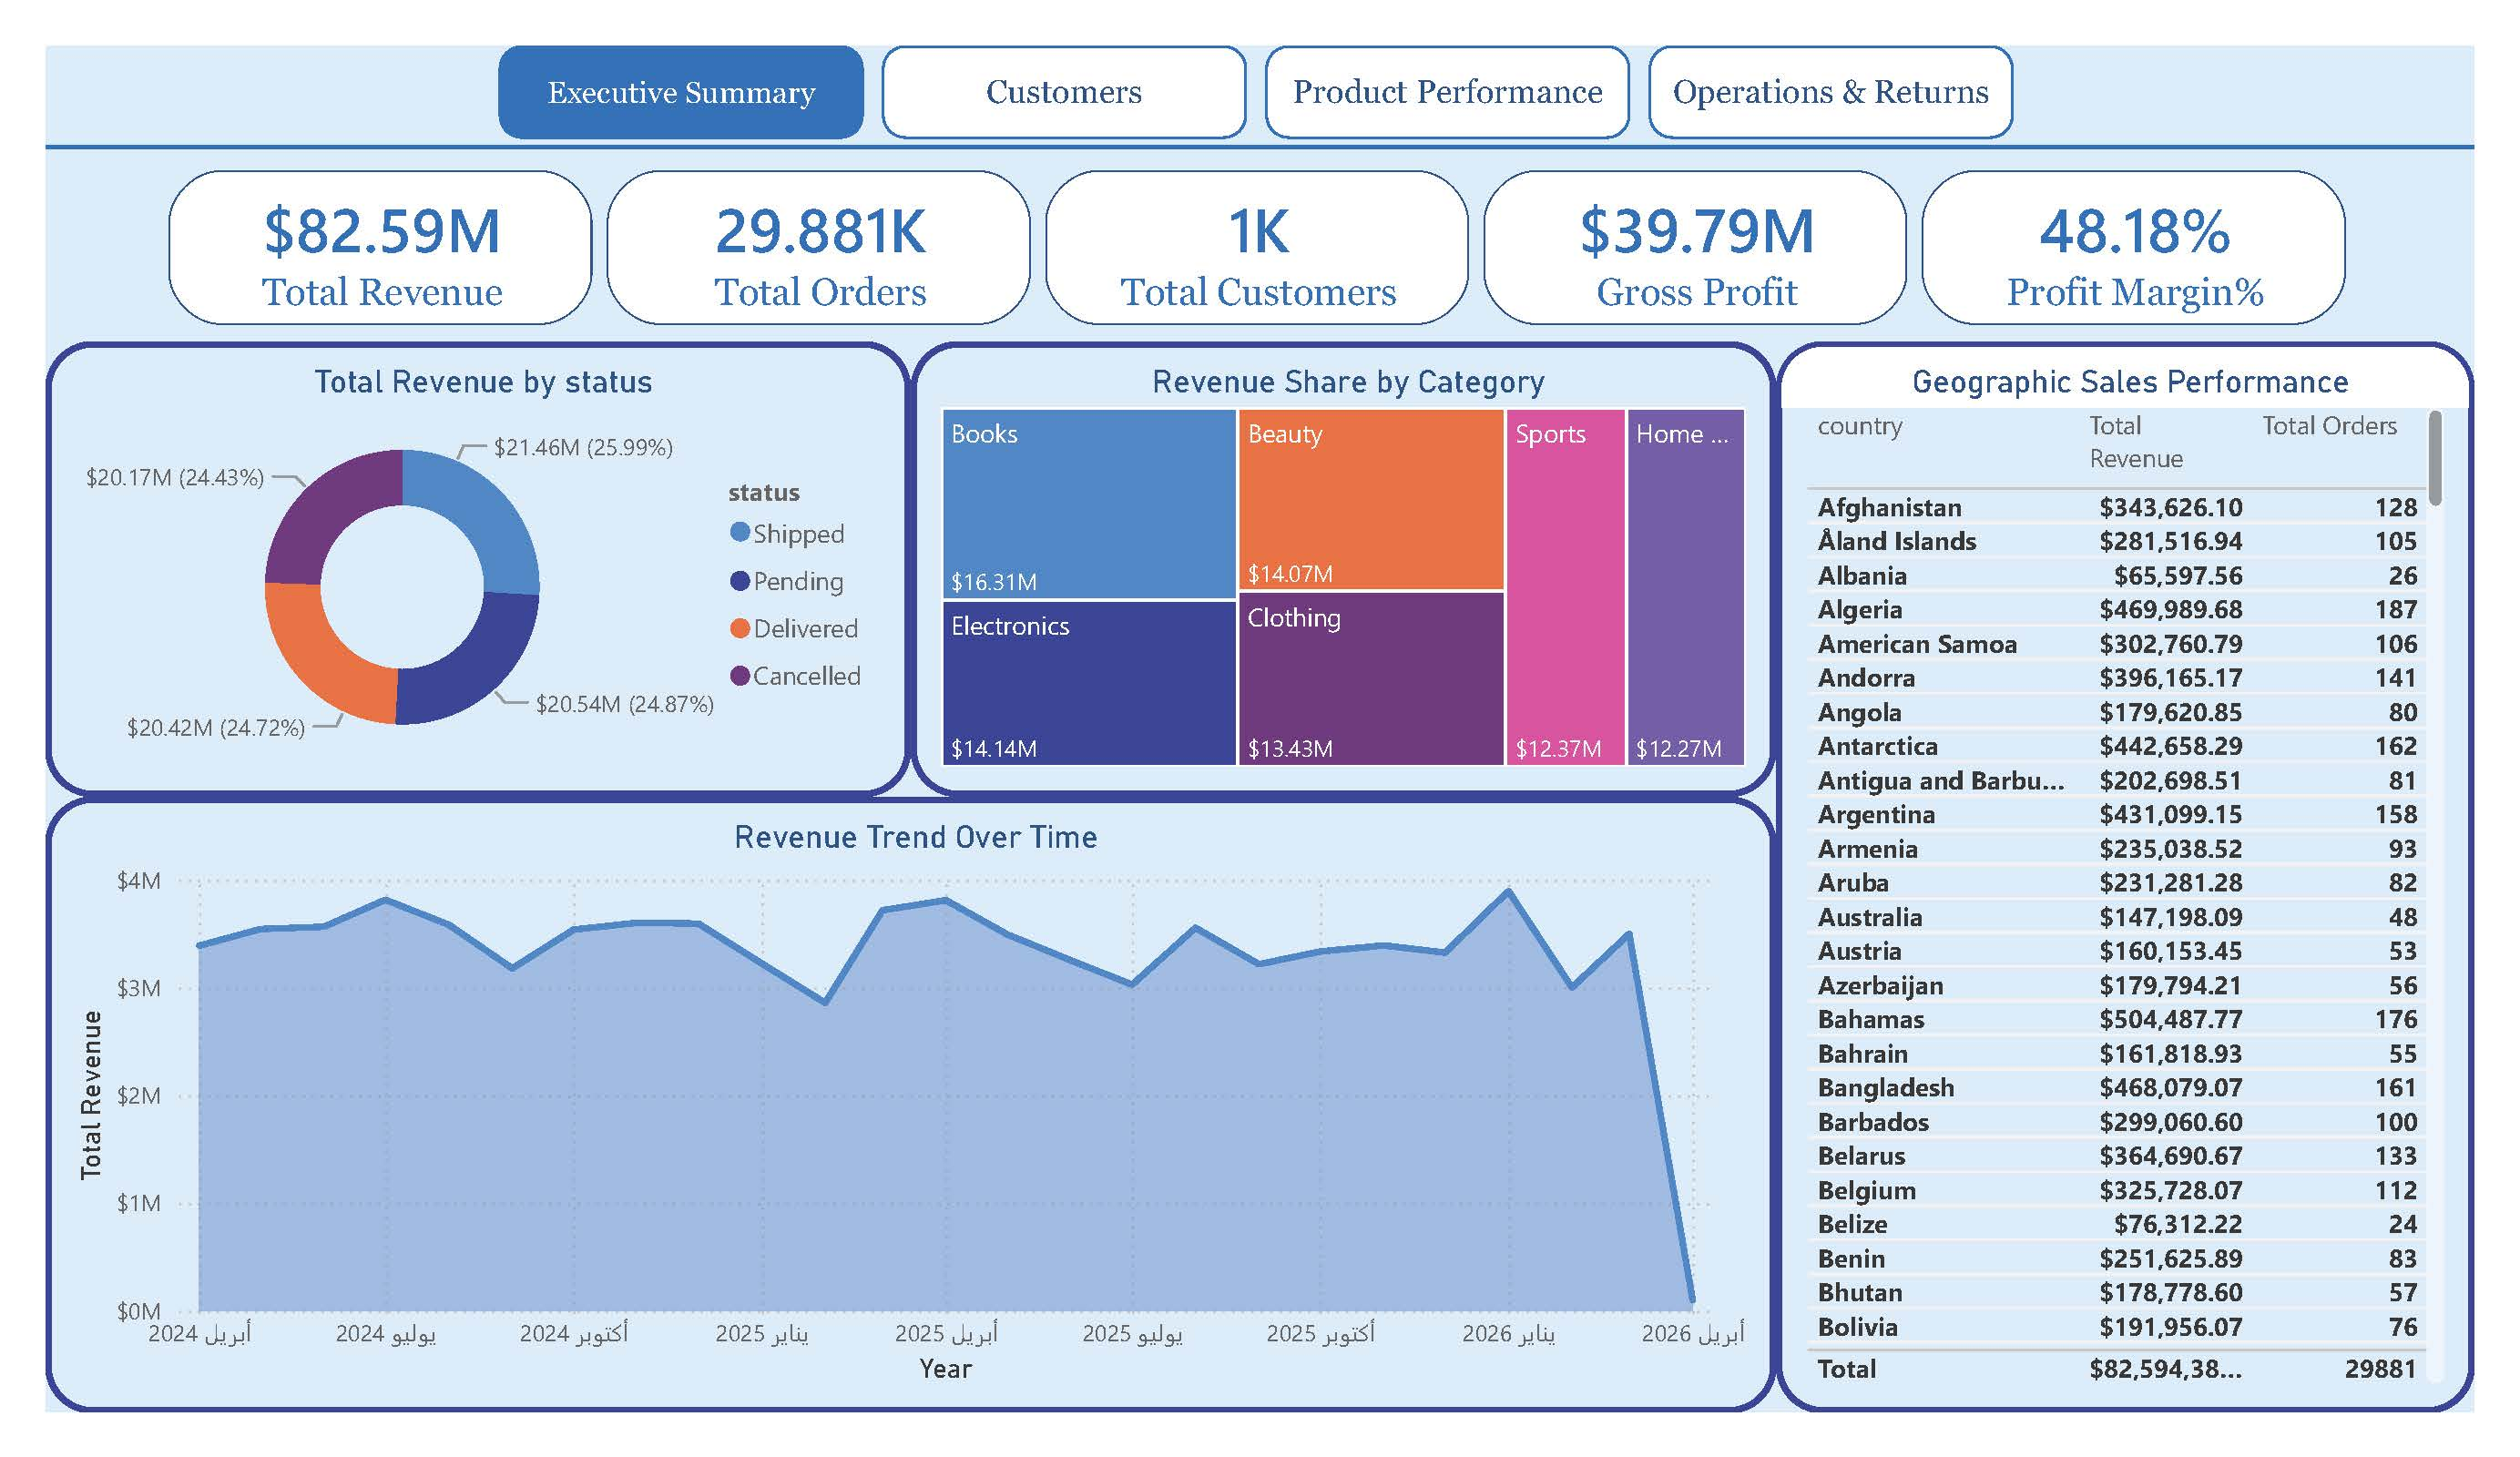

Layout of this report page (visuals, bound fields, positions):
{"tool":"powerbi","page":{"name":"Executive Summary","canvas":[1280,720],"ordinal":0},"visuals":[{"type":"shape","box":[0,0,1280,106.9],"z":0},{"type":"pageNavigator","box":[239.3,0,800.5,49.6],"z":1000},{"type":"cardVisual","fields":{"Data":["Measure.Total Revenue","Measure.Total Orders","Measure.Total Customers","Measure.Gross Profit","Measure.Profit Margin%"]},"box":[48.3,49.4,1182.3,116],"z":2000},{"type":"areaChart","title":"Revenue Trend Over Time","fields":{"Y":["Measure.Total Revenue"],"Category":["orders.order_date.Variation.Date Hierarchy.Year","orders.order_date.Variation.Date Hierarchy.Quarter","orders.order_date.Variation.Date Hierarchy.Month"]},"box":[0,396.2,911.7,324.3],"z":3000},{"type":"donutChart","fields":{"Y":["Measure.Total Revenue"],"Category":["orders.status"]},"box":[0,155.7,456.4,240.5],"z":4000},{"type":"treemap","title":"Revenue Share by Category","fields":{"Group":["products.category"],"Values":["Measure.Total Revenue"]},"box":[456.4,155.7,455.3,240.5],"z":5000},{"type":"tableEx","title":"Geographic Sales Performance","fields":{"Values":["customers.country","Measure.Total Revenue","Measure.Total Orders"]},"box":[911.7,155.7,368.3,564.8],"z":6000}]}

Visuals, with their boxes in screenshot pixels (x1, y1, x2, y2):
shape: left=66, top=46, right=2463, bottom=246
pageNavigator: left=514, top=46, right=2013, bottom=138
cardVisual - Measure.Total Revenue x Measure.Total Orders: left=156, top=138, right=2370, bottom=356
"Revenue Trend Over Time" areaChart: left=66, top=788, right=1773, bottom=1395
donutChart - Measure.Total Revenue x orders.status: left=66, top=338, right=921, bottom=788
"Revenue Share by Category" treemap: left=921, top=338, right=1773, bottom=788
"Geographic Sales Performance" tableEx: left=1773, top=338, right=2463, bottom=1395
